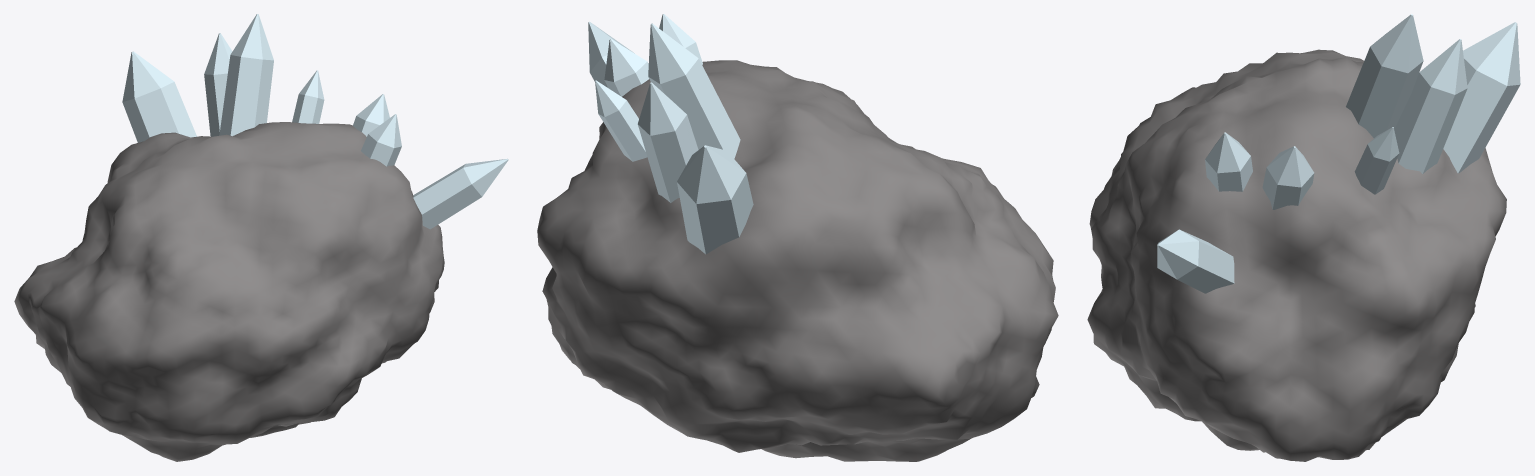
File: diamond_surface.glb
The picture shows the model from 3 angles, left to right: view 1: azimuth 30°, elevation 25°; view 2: azimuth 150°, elevation 25°; view 3: azimuth 270°, elevation 25°; orthographic projection. The views are drawn at different scales.
Parts seen in each view (by area): view 1: diamond_surface; view 2: diamond_surface; view 3: diamond_surface.
Boxes of the visible parts, x1,y1,x2,y2 form: diamond_surface: [14, 14, 508, 461]; diamond_surface: [537, 14, 1058, 461]; diamond_surface: [1087, 14, 1520, 461].
Size of the model in its own units: 1.1 by 0.9447 by 0.8073.
